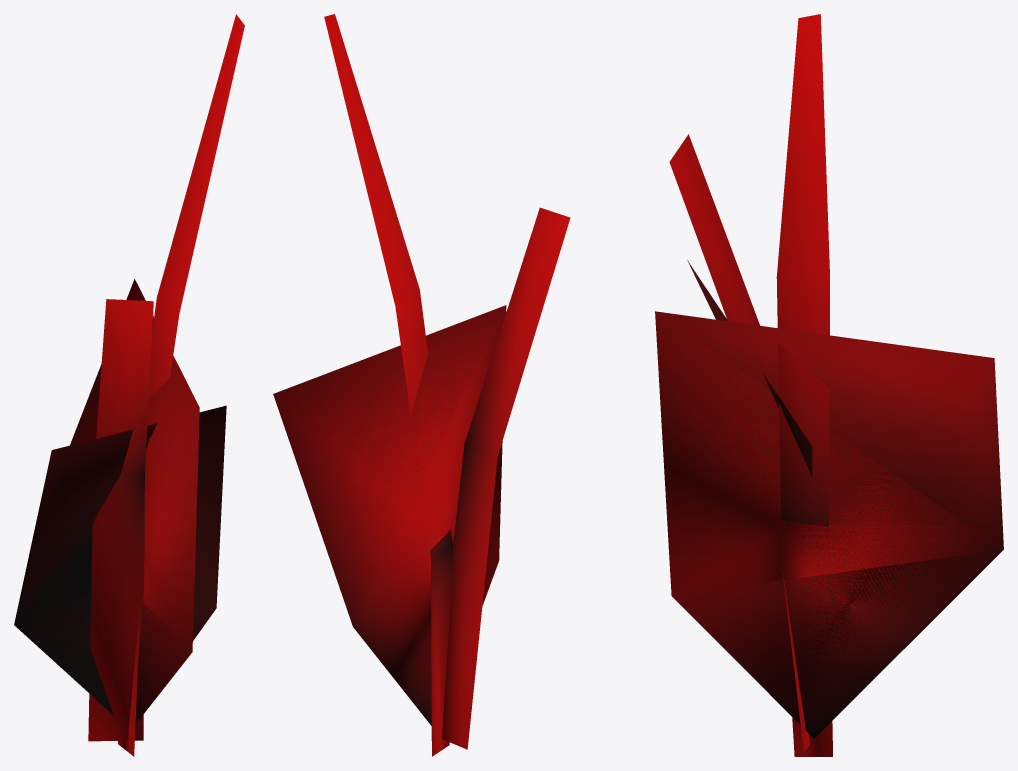
Rendered from SM_WheatPlants_2.fbx.
3 renders of one model, left to right at view 1: azimuth 30°, elevation 25°; view 2: azimuth 150°, elevation 25°; view 3: azimuth 270°, elevation 25°, orthographic. The views are drawn at different scales.
Parts seen in each view (by area): view 1: SM_WheatPlants_2; view 2: SM_WheatPlants_2; view 3: SM_WheatPlants_2.
Part boxes in pixels (left/top/right/bottom): SM_WheatPlants_2: left=14, top=14, right=244, bottom=756; SM_WheatPlants_2: left=273, top=14, right=570, bottom=756; SM_WheatPlants_2: left=655, top=14, right=1003, bottom=756.
Bounding box in the file's own units: 0.1952 × 0.5422 × 0.2127.
